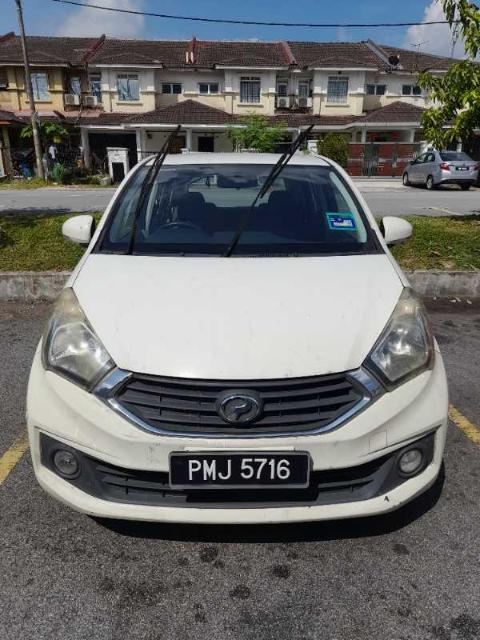License_Plate: (168, 452, 312, 491)
car: (26, 123, 451, 527), (402, 150, 480, 190)
